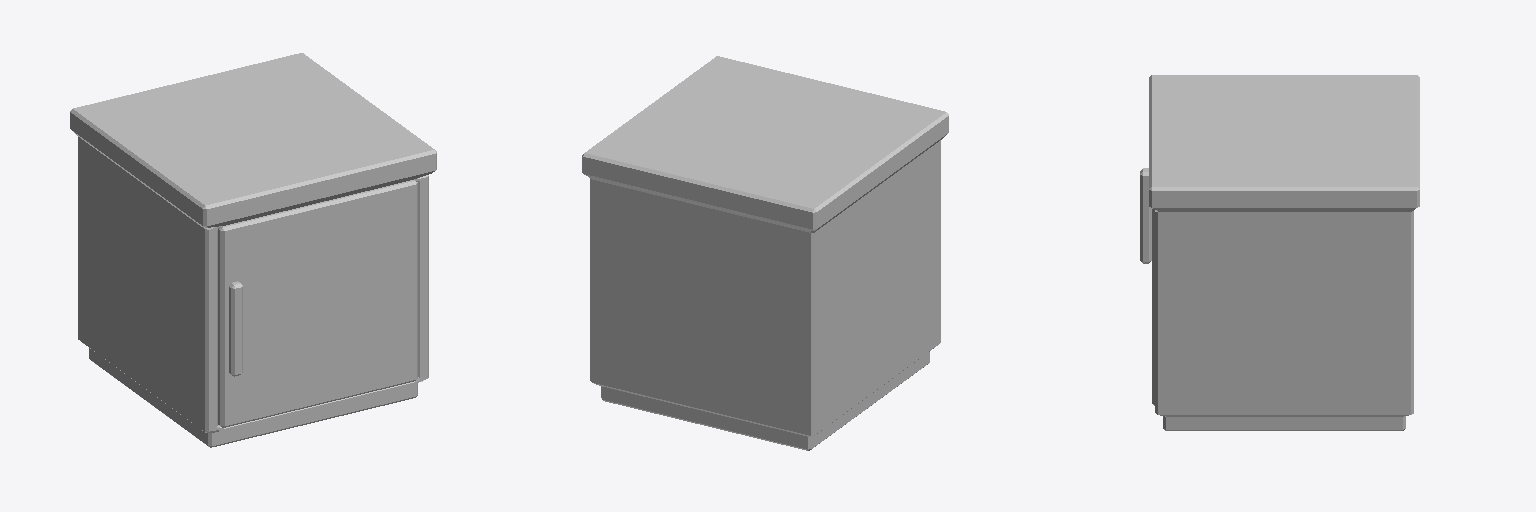
The model's file is Frige.obj.
3 renders of one model, left to right at view 1: azimuth 30°, elevation 25°; view 2: azimuth 150°, elevation 25°; view 3: azimuth 270°, elevation 25°, orthographic.
Visible parts, largest first — view 1: Frige; view 2: Frige; view 3: Frige.
Boxes of the visible parts, x1,y1,x2,y2 form: Frige: [70, 53, 436, 447]; Frige: [582, 56, 948, 450]; Frige: [1140, 75, 1419, 430].
Size of the model in its own units: 4.91 by 5.01 by 5.07.